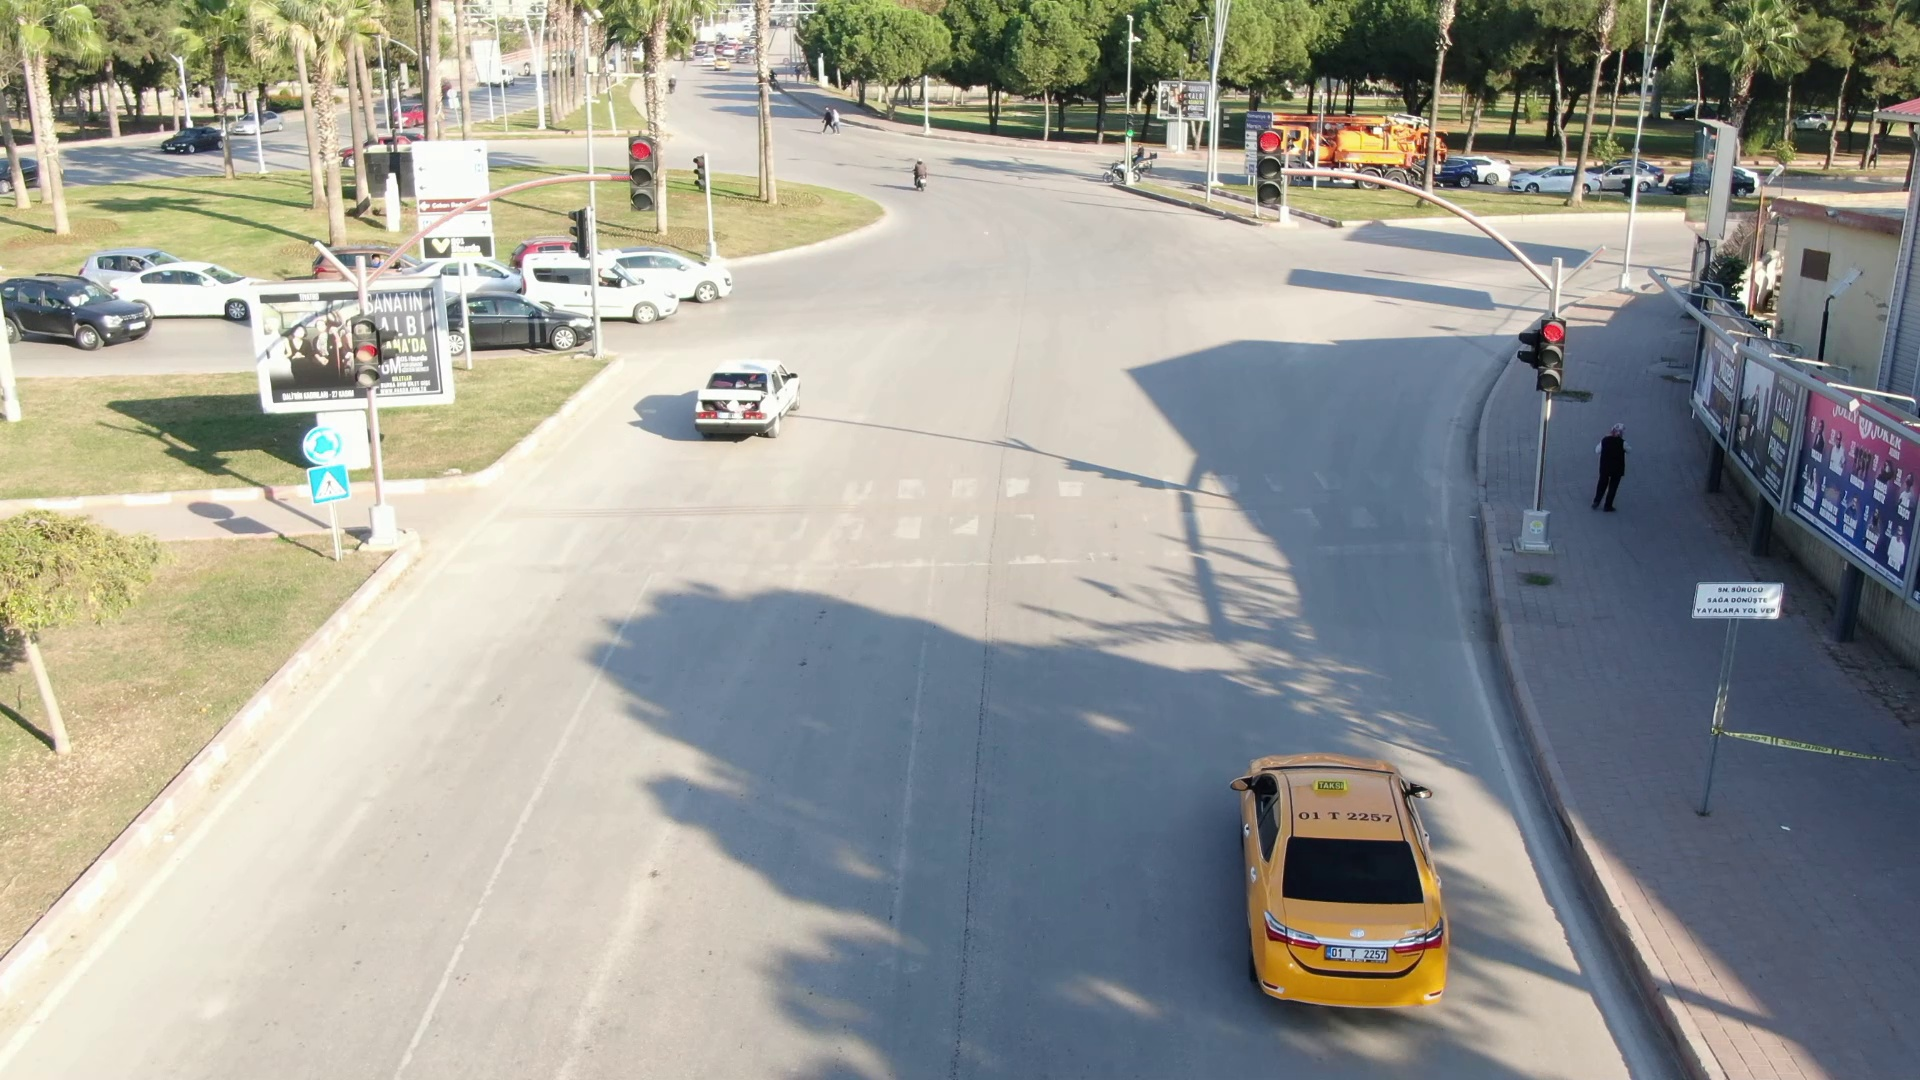car: (1200, 735, 1502, 1015), (502, 223, 688, 323), (657, 355, 812, 451), (574, 233, 745, 302), (449, 296, 617, 363), (1, 274, 159, 341), (121, 253, 251, 327)
person: (1588, 415, 1639, 514), (904, 157, 933, 188)
